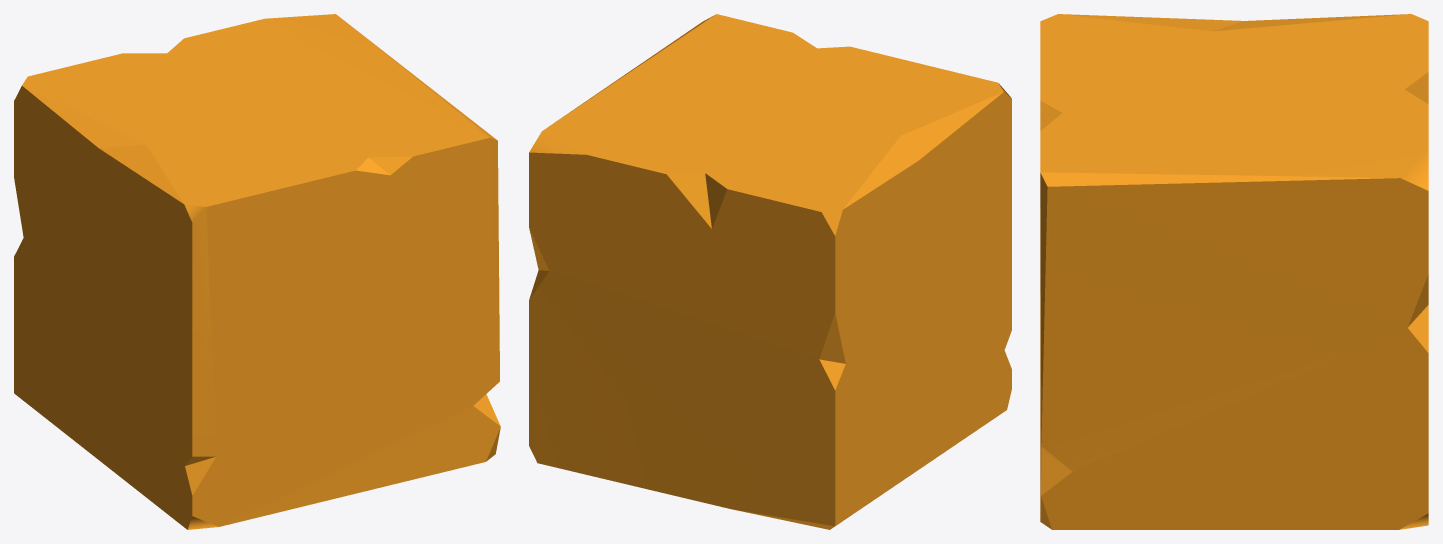
The model's file is SM_Buildings_Block_1x1_01P.fbx.
3 renders of one model, left to right at view 1: azimuth 30°, elevation 25°; view 2: azimuth 150°, elevation 25°; view 3: azimuth 270°, elevation 25°, orthographic. The views are drawn at different scales.
Parts seen in each view (by area): view 1: SM_Buildings_Block_1x1_01P; view 2: SM_Buildings_Block_1x1_01P; view 3: SM_Buildings_Block_1x1_01P.
Part boxes in pixels (x1=…): SM_Buildings_Block_1x1_01P: x1=14, y1=14, x2=500, y2=529; SM_Buildings_Block_1x1_01P: x1=529, y1=14, x2=1011, y2=529; SM_Buildings_Block_1x1_01P: x1=1040, y1=14, x2=1428, y2=529.
Bounding box in the file's own units: 100 × 100 × 100.
